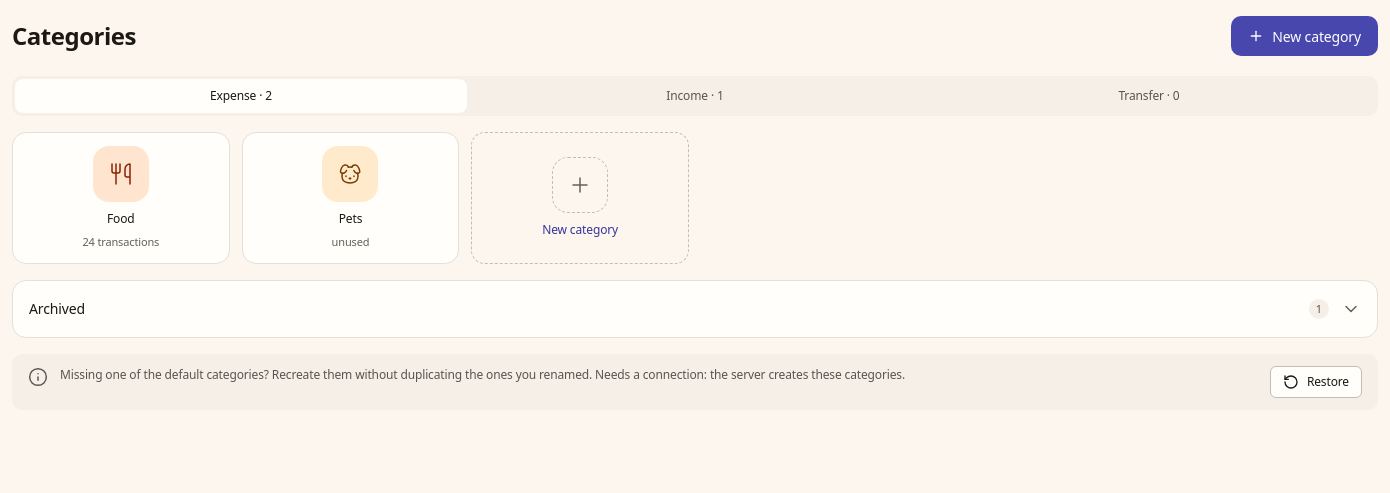
Scenario: CategoriesView › groups by type with counts, shows usage per tile and folds the archived ones
Check: the button "Transfer · 0" is shown, box [923,79,1375,113]
Check: the link "Food 24 transactions" is shown, box [12,132,230,264]
Click the button "Income · 1" at (695, 96), box [469,79,921,113]
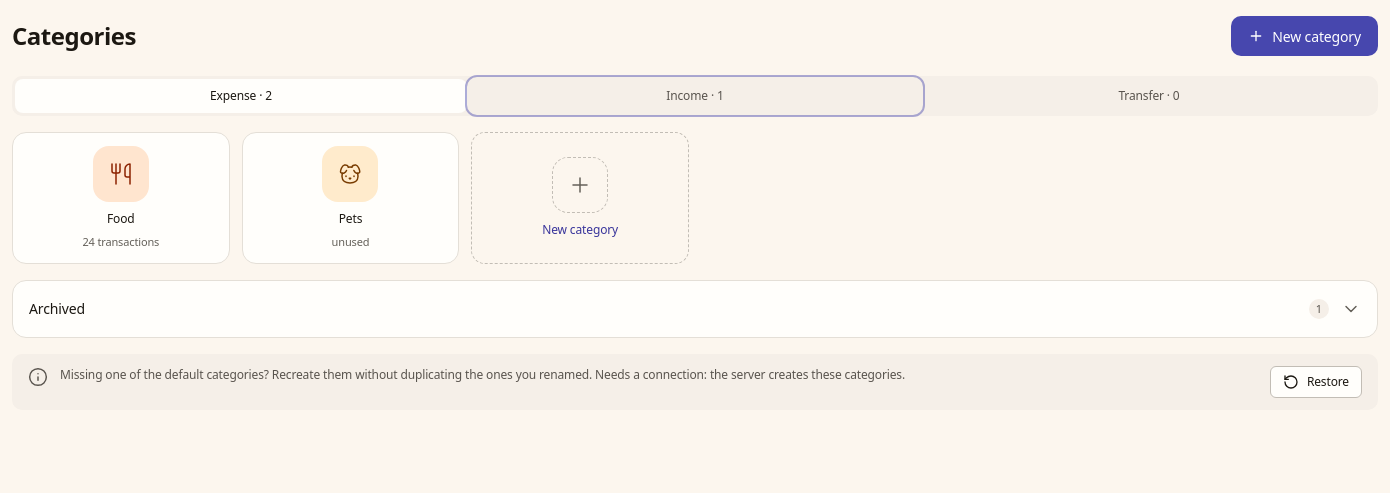
Click the button "Archived 1" at (57, 308), box [13,281,1377,337]
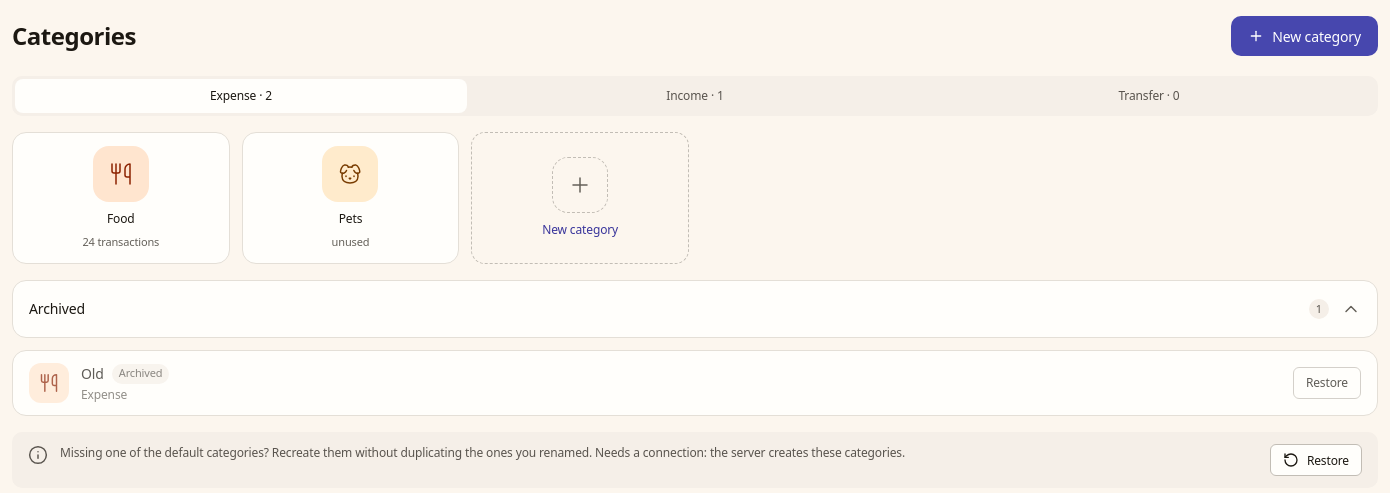
Check: the button named "Restore Old" is shown, box [1293,367,1361,399]
